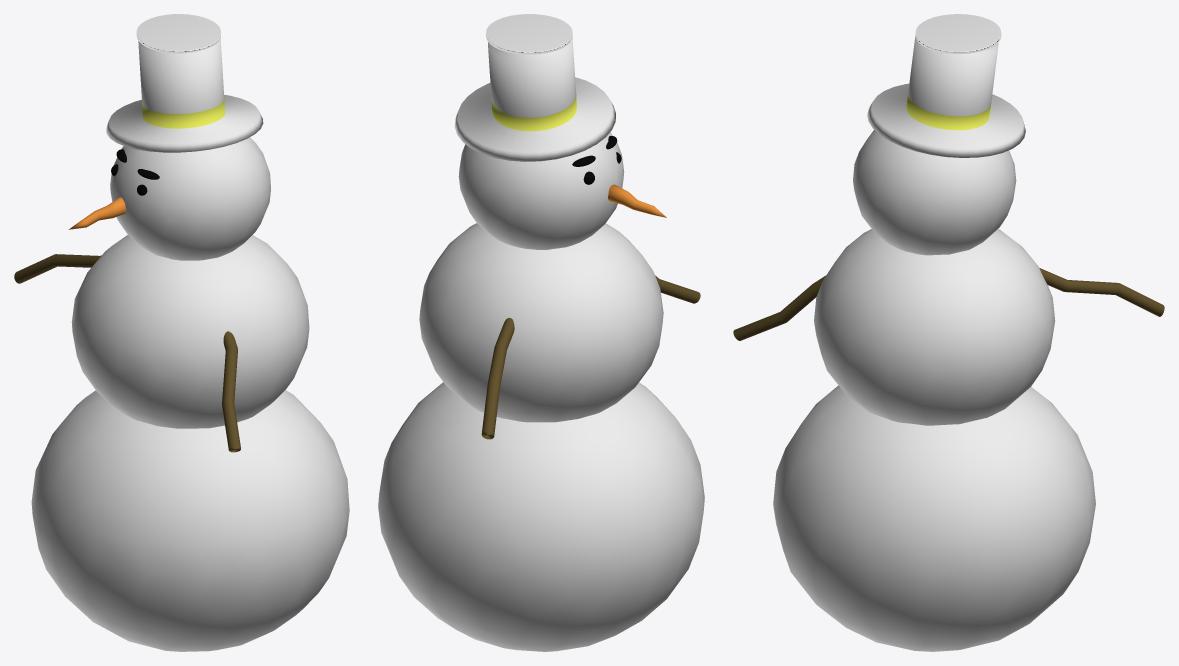
The model's file is Snowman_Smooth.fbx.
3 renders of one model, left to right at view 1: azimuth 30°, elevation 25°; view 2: azimuth 150°, elevation 25°; view 3: azimuth 270°, elevation 25°, orthographic. The views are drawn at different scales.
Parts seen in each view (by area): view 1: Sphere, Sphere.001, Sphere.002, Cylinder.005, Cylinder.006, Cylinder.007, Cylinder.008, Cylinder.004; view 2: Sphere, Sphere.001, Cylinder.005, Sphere.002, Cylinder.006, Cylinder.008, Cylinder.004, Cylinder.007; view 3: Sphere, Sphere.001, Sphere.002, Cylinder.005, Cylinder.006, Cylinder.008, Cylinder.007.
Boxes of the visible parts, left/top/right/bottom form: Sphere: left=31, top=390, right=349, bottom=651; Sphere.001: left=71, top=235, right=309, bottom=428; Sphere.002: left=110, top=137, right=270, bottom=260; Cylinder.005: left=106, top=38, right=263, bottom=152; Cylinder.006: left=136, top=14, right=220, bottom=53; Cylinder.007: left=222, top=331, right=240, bottom=452; Cylinder.008: left=14, top=254, right=101, bottom=283; Cylinder.004: left=68, top=197, right=125, bottom=229; Sphere: left=378, top=382, right=704, bottom=651; Sphere.001: left=419, top=223, right=663, bottom=422; Cylinder.005: left=454, top=38, right=615, bottom=161; Sphere.002: left=458, top=132, right=624, bottom=249; Cylinder.006: left=486, top=14, right=572, bottom=54; Cylinder.008: left=481, top=318, right=514, bottom=439; Cylinder.004: left=608, top=184, right=666, bottom=217; Cylinder.007: left=655, top=275, right=700, bottom=303; Sphere: left=773, top=385, right=1095, bottom=651; Sphere.001: left=814, top=229, right=1055, bottom=425; Sphere.002: left=853, top=130, right=1016, bottom=255; Cylinder.005: left=867, top=35, right=1025, bottom=157; Cylinder.006: left=915, top=14, right=1001, bottom=54; Cylinder.008: left=1039, top=268, right=1164, bottom=316; Cylinder.007: left=733, top=275, right=825, bottom=340.
Size of the model in its own units: 226 by 467 by 302.
